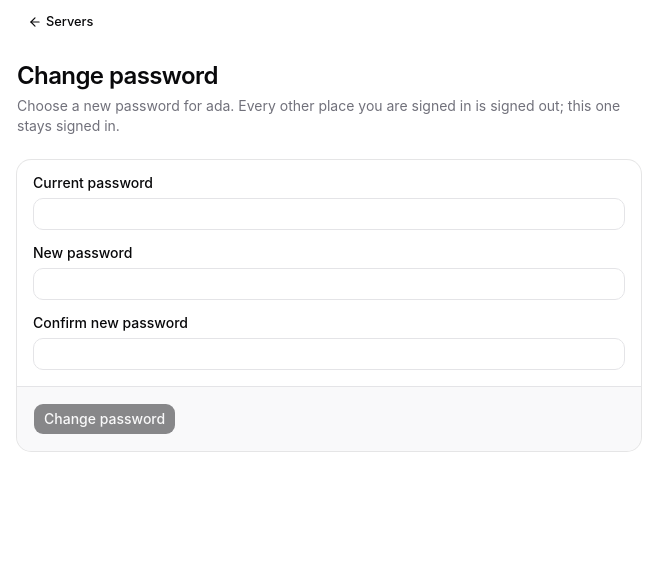
Scenario: the change password screen › sends both passwords, confirms, clears the form and stays signed in
Type "old-password" into the password field labelled "Current password".
click(329, 214); type("old-password")  # box x1=33 y1=198 x2=625 y2=230
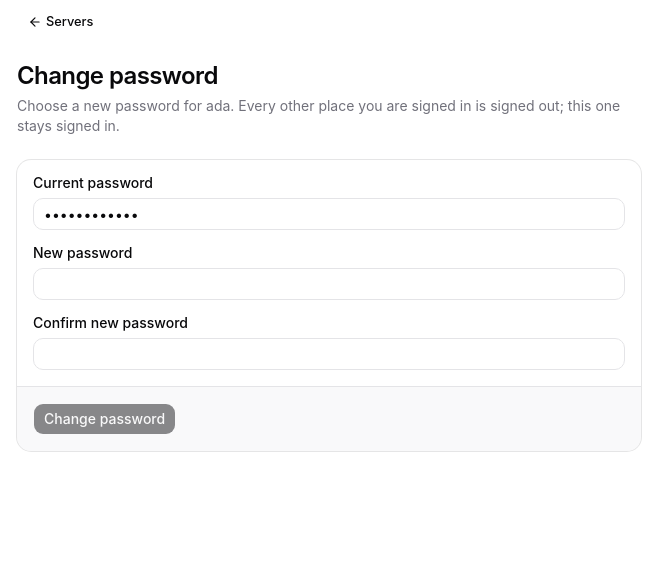
Type "a-brand-new-password" into the password field labelled "New password".
click(329, 284); type("a-brand-new-password")  # box x1=33 y1=268 x2=625 y2=300
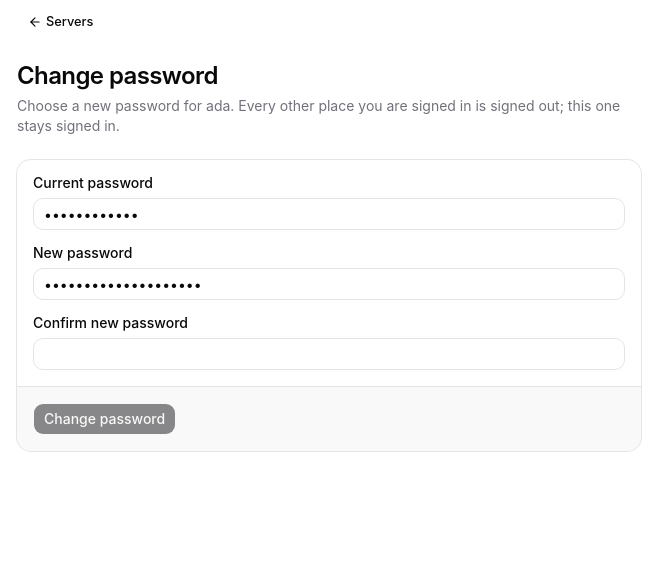
Type "a-brand-new-password" into the password field labelled "Confirm new password".
click(329, 354); type("a-brand-new-password")  # box x1=33 y1=338 x2=625 y2=370
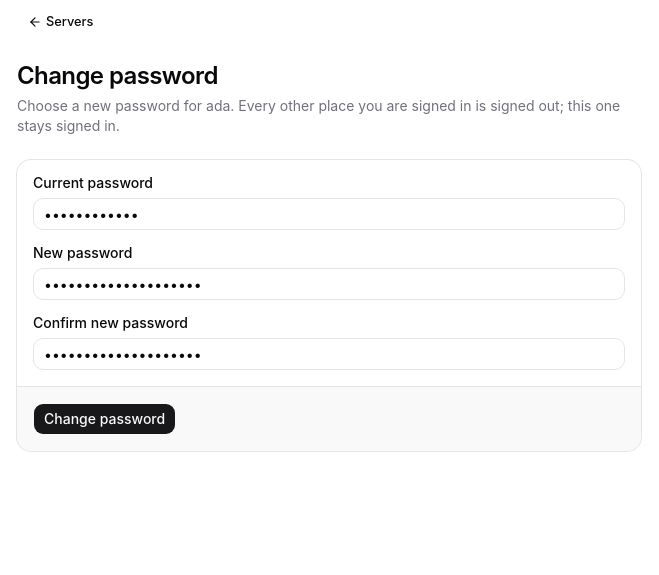
Click the button "Change password".
click(105, 419)  # box x1=33 y1=403 x2=176 y2=435
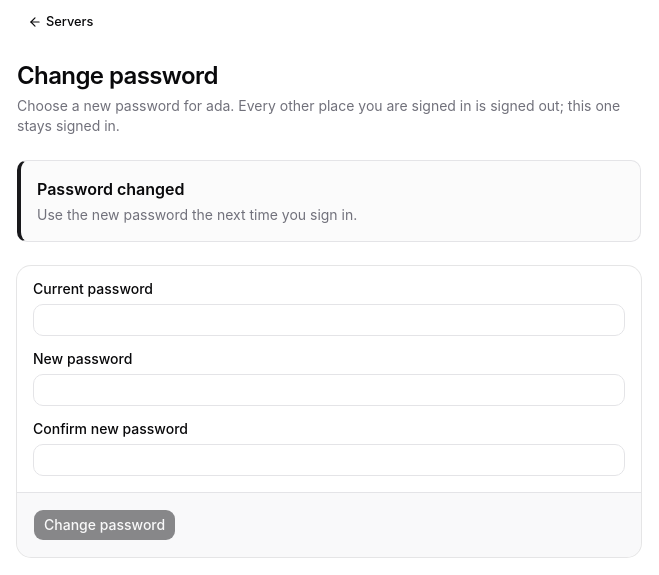
Expected: the heading "Password changed" is shown, x1=37 y1=179 x2=184 y2=199
Expected: the password field labelled "Current password" is empty, x1=33 y1=304 x2=625 y2=336
Expected: the password field labelled "New password" is empty, x1=33 y1=374 x2=625 y2=406
